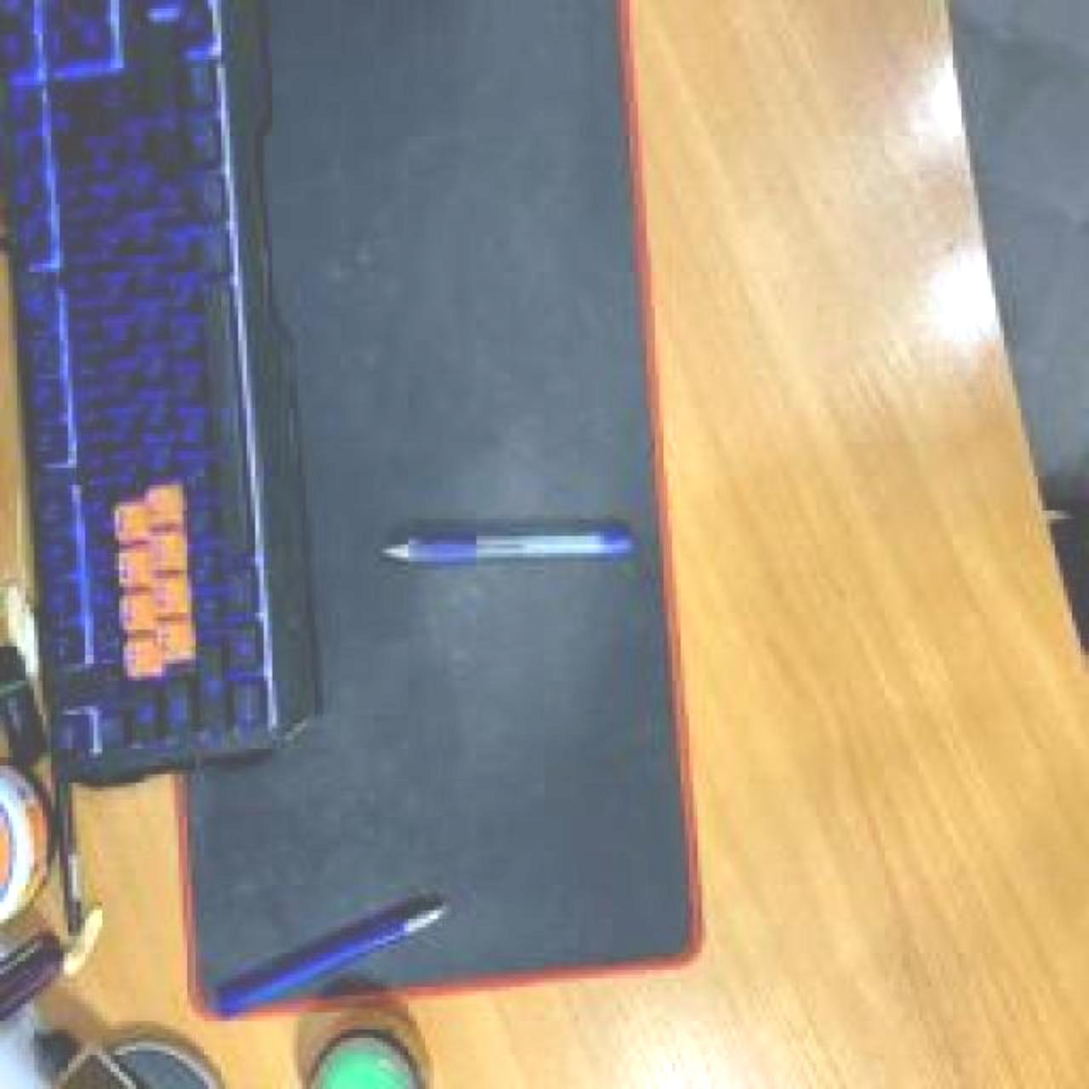pen: (383, 533, 638, 563)
